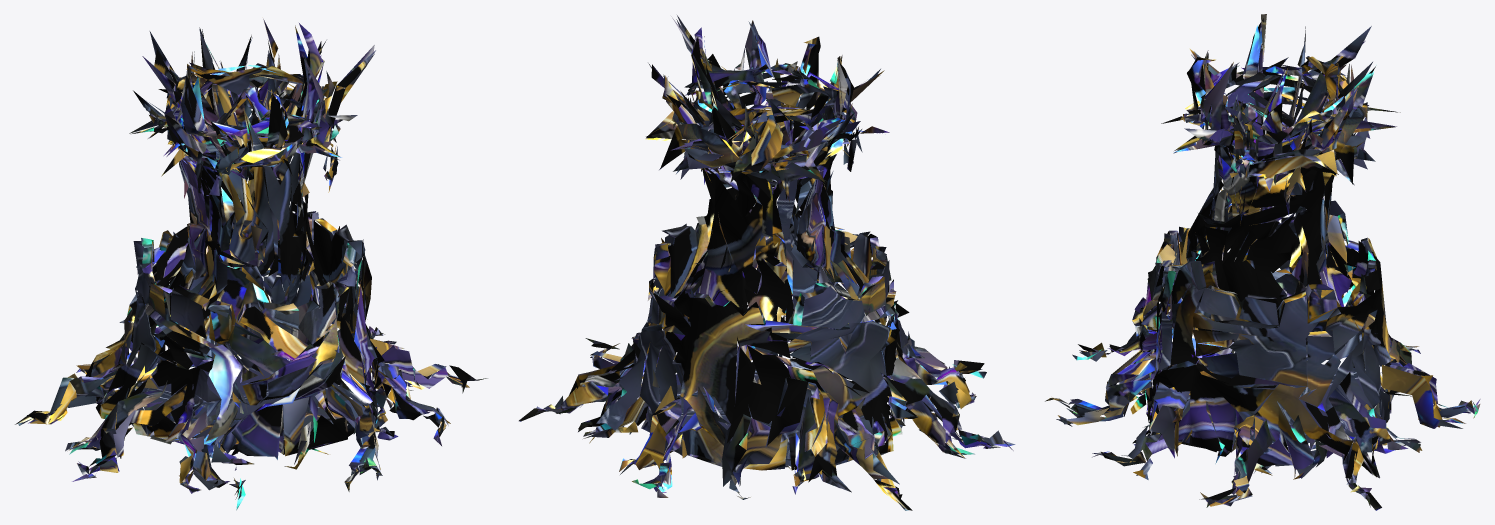
File: tower_sapling_3d_LOD2.fbx
3 renders of one model, left to right at view 1: azimuth 30°, elevation 25°; view 2: azimuth 150°, elevation 25°; view 3: azimuth 270°, elevation 25°, orthographic. The views are drawn at different scales.
Parts seen in each view (by area): view 1: Mesh1.0; view 2: Mesh1.0; view 3: Mesh1.0.
Boxes of the visible parts, <box> form: Mesh1.0: <box>15,19,487,510</box>; Mesh1.0: <box>519,15,1015,510</box>; Mesh1.0: <box>1045,14,1480,510</box>.
Size of the model in its own units: 144 by 125 by 130.
